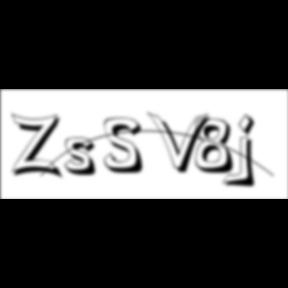8: (196, 117, 240, 176)
S: (104, 117, 150, 176)
V: (148, 110, 214, 176)
Z: (12, 112, 66, 181)
j: (236, 113, 262, 191)
s: (65, 137, 104, 179)
